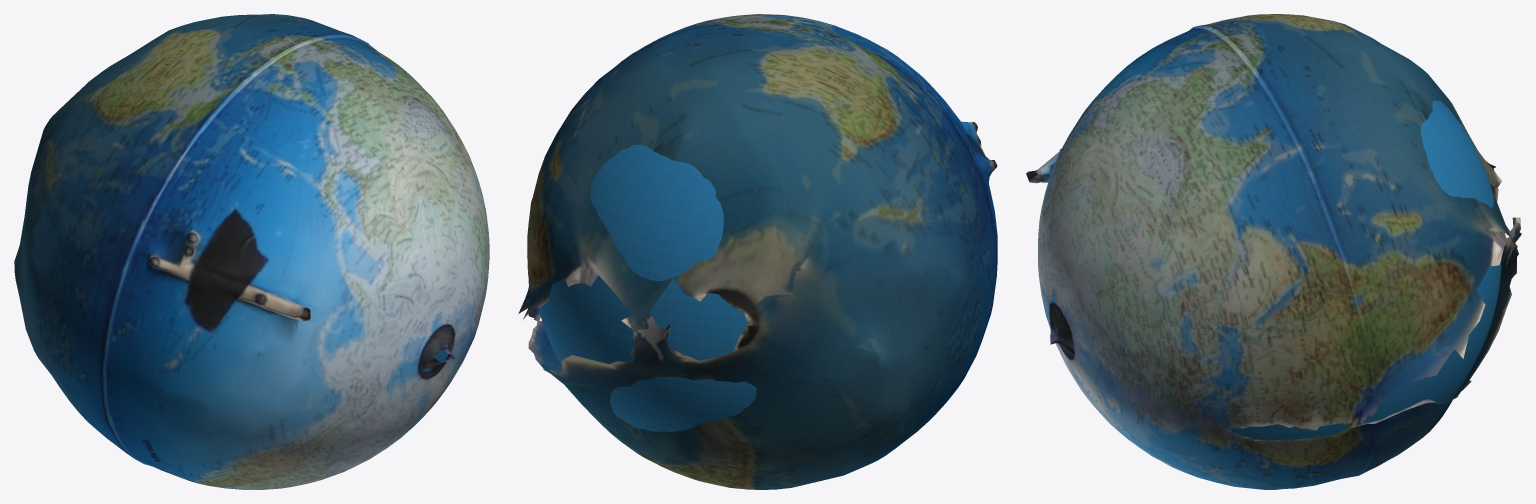
Rendered from globe_sphere.dae.
The picture shows the model from 3 angles, left to right: view 1: azimuth 30°, elevation 25°; view 2: azimuth 150°, elevation 25°; view 3: azimuth 270°, elevation 25°; orthographic projection.
Visible parts, largest first — view 1: globedone; view 2: globedone, Sphere; view 3: globedone, Sphere.
Boxes of the visible parts, x1,y1,x2,y2 form: globedone: (14, 14, 489, 489); globedone: (518, 14, 997, 489); Sphere: (538, 144, 756, 431); globedone: (1026, 14, 1521, 489); Sphere: (1230, 100, 1501, 440).
Size of the model in its own units: 0.3008 by 0.3124 by 0.3.
Materials: 2 (1 with a texture image).
